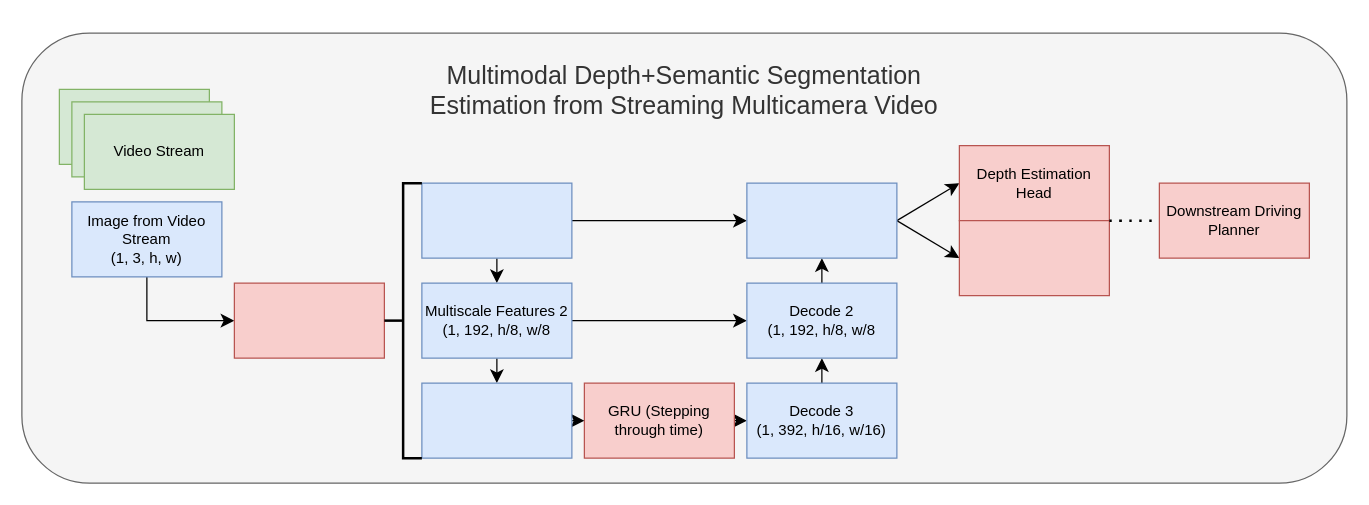
The diagram is 1369 pixels wide and 505 high, and some of its shapes have lost their labels. Here are the shapes that lost their labels. From the top down, the centre of each, then its label:
(496,220): Multiscale Features 1 (1, 96, h/4, w/4)
(821,220): Decode 1 (1, 96, h/4, w/4)
(1033,257): Semantic Segmentation Head
(308,320): ConvNext Image Encoder
(496,420): Multiscale Features 3 (1, 392, h/16, w/16)
